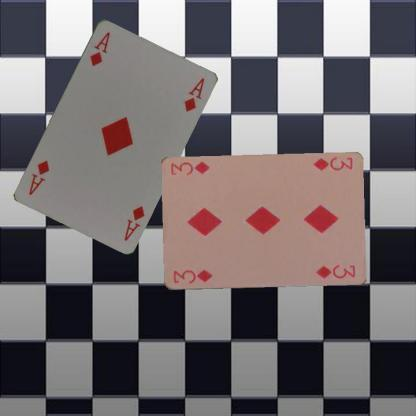3d: (310, 154, 354, 172), (171, 267, 214, 285)
Ad: (86, 28, 112, 67), (122, 202, 146, 242)
